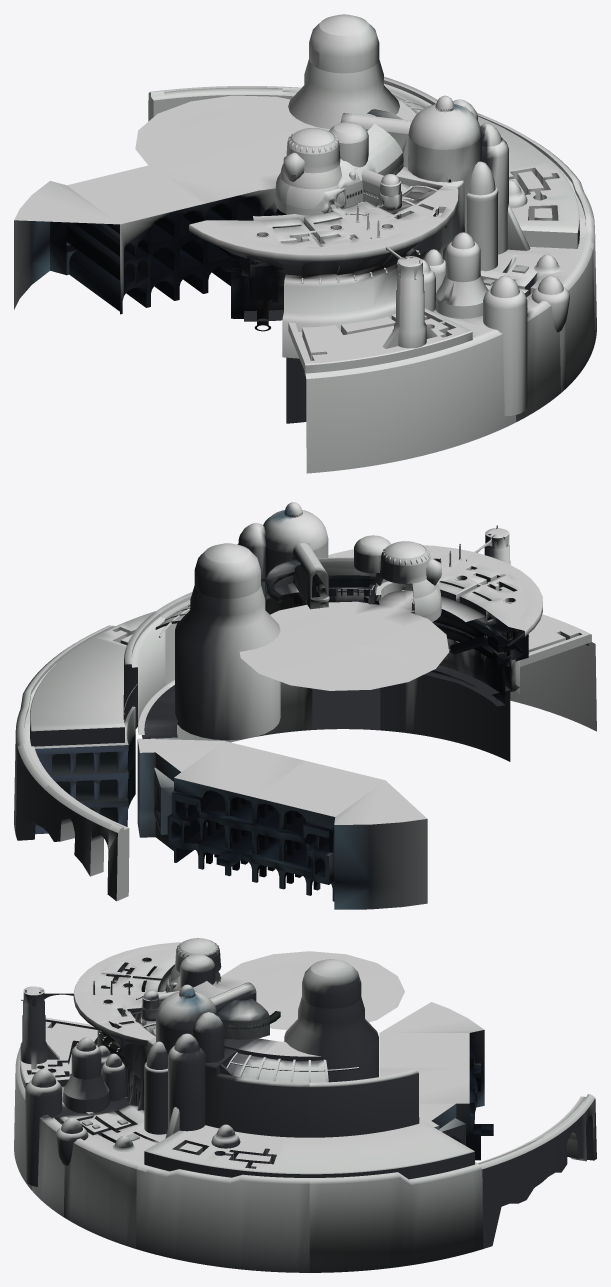
Rendered from LaputaGTA.FBX.
3 renders of one model, top to bottom at view 1: azimuth 30°, elevation 25°; view 2: azimuth 150°, elevation 25°; view 3: azimuth 270°, elevation 25°, orthographic. The views are drawn at different scales.
Visible parts, largest first — view 1: hei1; view 2: hei1; view 3: hei1.
Part boxes in pixels (x1=…): hei1: x1=14, y1=14, x2=596, y2=473; hei1: x1=14, y1=502, x2=596, y2=909; hei1: x1=14, y1=938, x2=596, y2=1272.
Size of the model in its own units: 912 by 515 by 1175.
